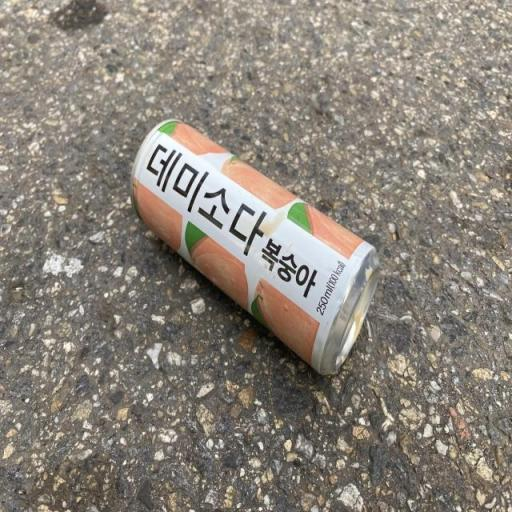metal: (104, 91, 384, 415)
